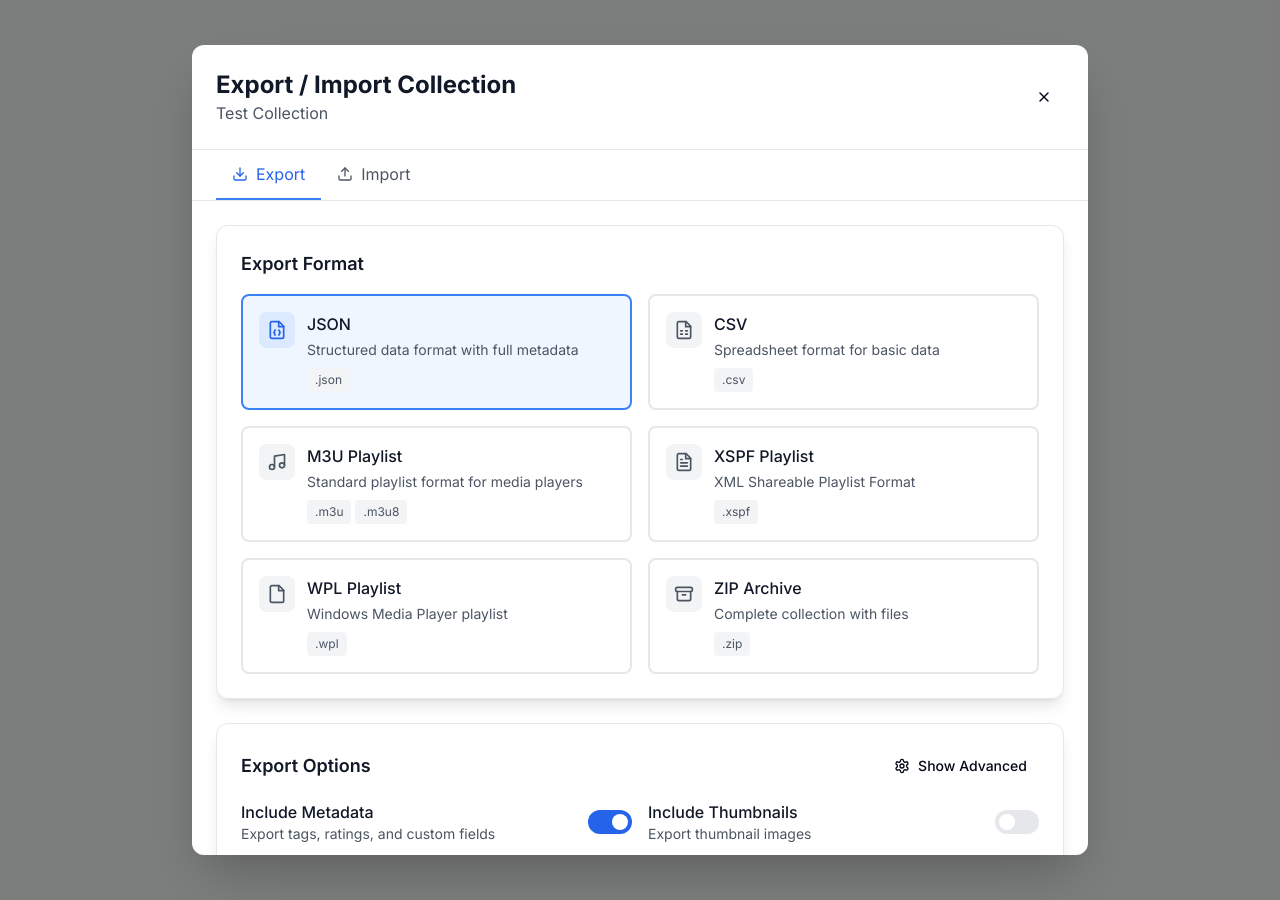
Test case: CollectionExport › switches to Import tab
Click the button "Import". click: click(374, 175)
box: x1=321 y1=150 x2=426 y2=200
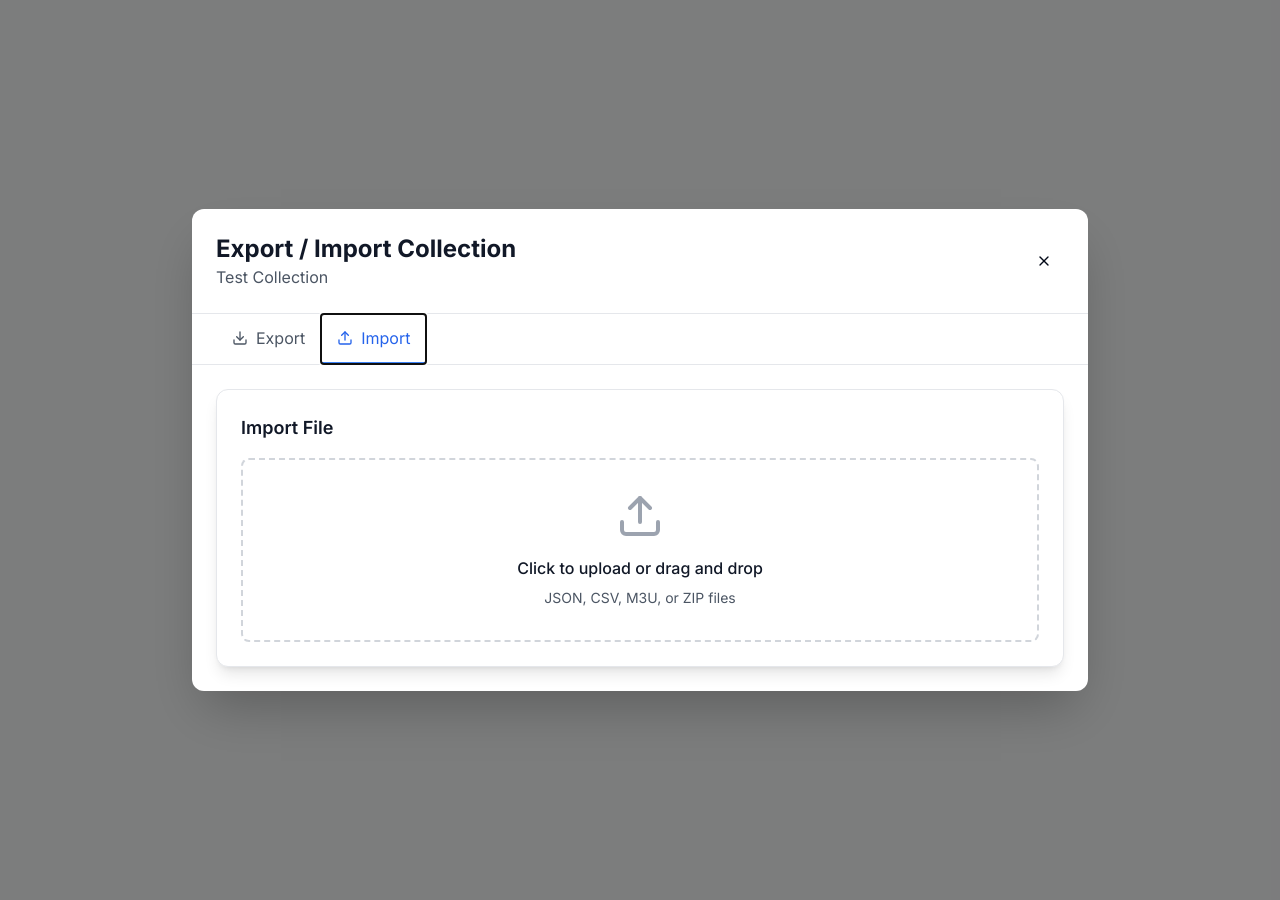
Expected: the heading "Import File" is shown, x1=241 y1=417 x2=333 y2=438
Expected: the text "Click to upload or drag and drop" is shown, x1=517 y1=558 x2=763 y2=578
